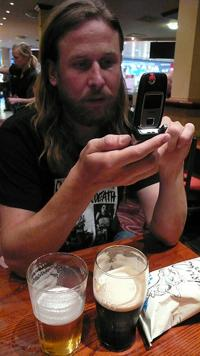person: (1, 5, 196, 284)
